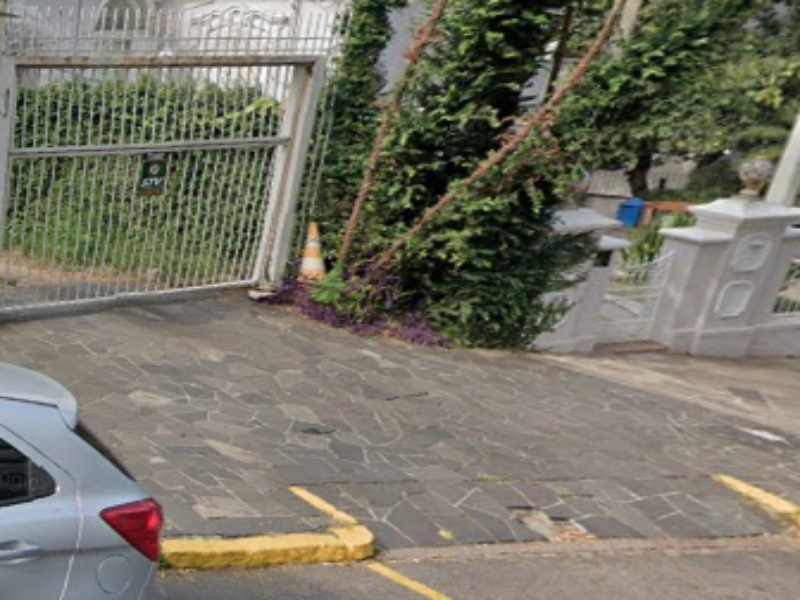g81: (376, 483, 800, 596)
